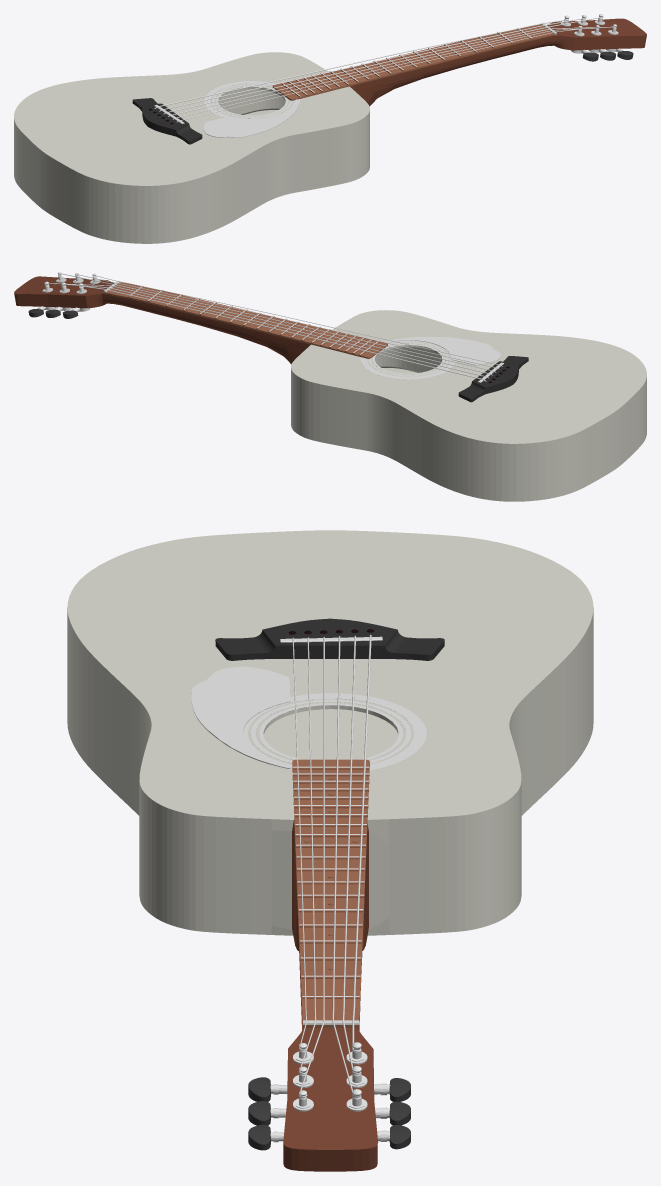
File: acoustic (3).fbx
3 views of the same model, one above another, from view 1: azimuth 30°, elevation 25°; view 2: azimuth 150°, elevation 25°; view 3: azimuth 270°, elevation 25° (orthographic). The views are drawn at different scales.
Parts seen in each view (by area): view 1: tuner1_Cube.001, tuner1_Cube.006, neck_Cube.004, Strings2_Vert.003, picguard_Circle.003, bridgeline_Cube.002; view 2: tuner1_Cube.001, tuner1_Cube.006, neck_Cube.004, Strings2_Vert.003, picguard_Circle.003, bridgeline_Cube.002; view 3: tuner1_Cube.001, tuner1_Cube.006, neck_Cube.004, picguard_Circle.003, bridgeline_Cube.002, Strings2_Vert.003.
Part boxes in pixels (x1,y1,x2,y2): tuner1_Cube.001: (14, 52, 369, 243); tuner1_Cube.006: (350, 14, 646, 106); neck_Cube.004: (272, 24, 556, 100); Strings2_Vert.003: (154, 17, 616, 122); picguard_Circle.003: (203, 81, 299, 137); bridgeline_Cube.002: (132, 98, 202, 144); tuner1_Cube.001: (291, 310, 646, 501); tuner1_Cube.006: (14, 272, 310, 364); neck_Cube.004: (103, 282, 387, 358); Strings2_Vert.003: (44, 273, 502, 381); picguard_Circle.003: (360, 336, 500, 379); bridgeline_Cube.002: (458, 356, 528, 402); tuner1_Cube.001: (67, 530, 593, 935); tuner1_Cube.006: (248, 820, 410, 1171); neck_Cube.004: (292, 759, 369, 1028); picguard_Circle.003: (191, 666, 426, 770); bridgeline_Cube.002: (215, 618, 444, 660); Strings2_Vert.003: (292, 634, 371, 1097).
Size of the model in its own units: 1915 by 203 by 734.
